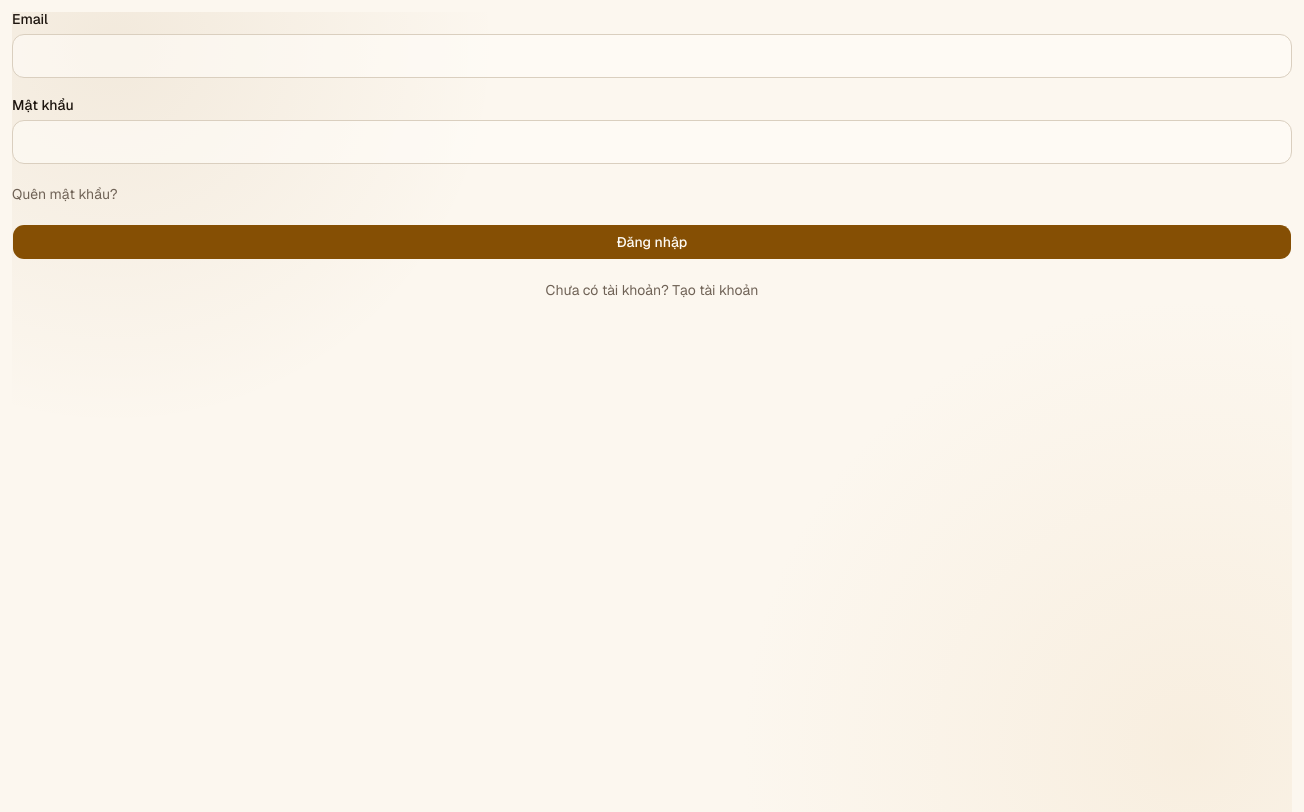
Test: LoginForm › shows the form-level error and correlation id on failed login
The image size is (1304, 812).
Click the button "Đăng nhập" at (652, 242), box x1=12 y1=224 x2=1292 y2=260
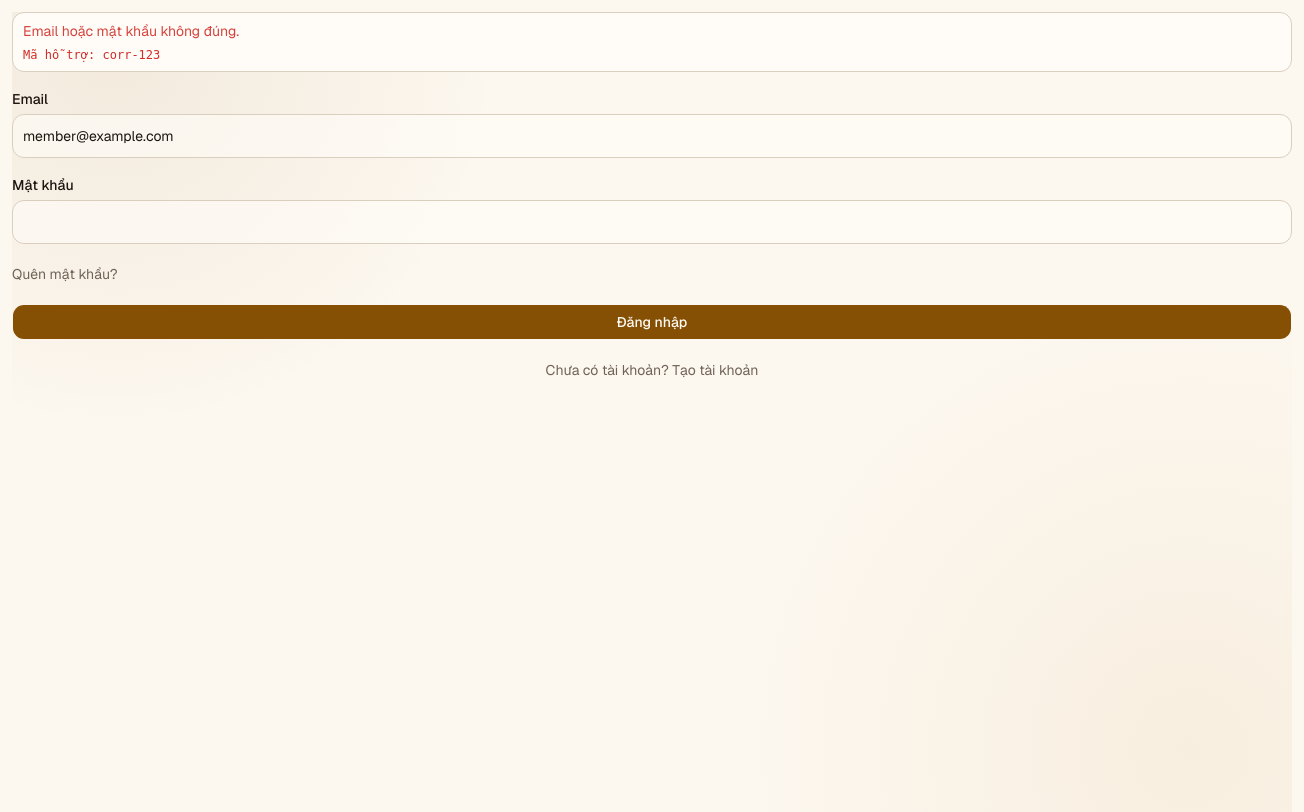
Expected: the text "Email hoặc mật khẩu không đúng." is shown, x1=23 y1=22 x2=239 y2=40
Expected: the text "Mã hỗ trợ: corr-123" is shown, x1=23 y1=48 x2=160 y2=62
